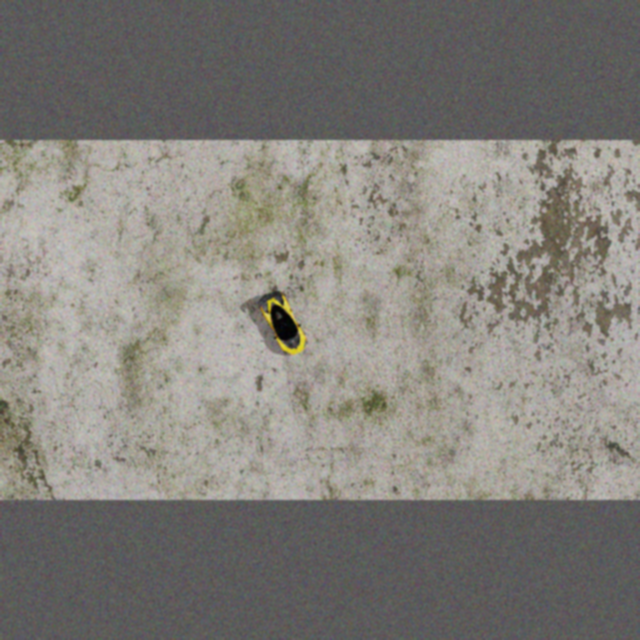car: (254, 287, 312, 361)
